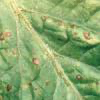Tomato mold leaf: (1, 1, 99, 99)
